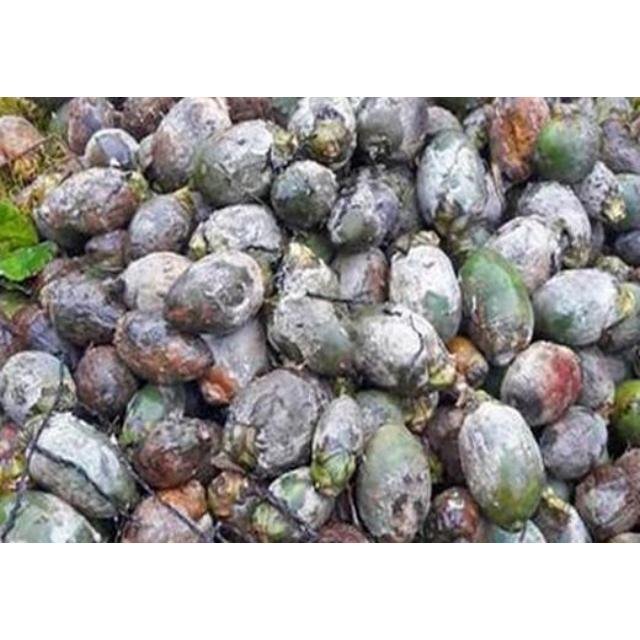damaged: (23, 412, 140, 524), (222, 367, 332, 478), (457, 399, 548, 531), (354, 421, 434, 539), (34, 167, 146, 251), (163, 249, 269, 337), (265, 290, 361, 380), (348, 307, 442, 395), (144, 97, 232, 191), (113, 308, 214, 387), (386, 243, 464, 345), (192, 121, 284, 207), (510, 181, 594, 271), (43, 266, 129, 348), (502, 340, 582, 428), (193, 316, 271, 406), (130, 414, 220, 490), (481, 216, 565, 294), (194, 202, 286, 270), (258, 466, 339, 540), (1, 349, 75, 429), (487, 98, 551, 182), (536, 408, 610, 480), (530, 109, 600, 185), (72, 343, 140, 421), (574, 460, 640, 540), (268, 160, 340, 232), (285, 98, 357, 170), (127, 189, 201, 259), (270, 240, 346, 308), (354, 97, 430, 165), (119, 382, 190, 454), (424, 400, 481, 486), (117, 252, 193, 316), (576, 161, 634, 233), (368, 165, 420, 243), (20, 308, 80, 372), (420, 487, 486, 543), (332, 246, 391, 308), (568, 348, 622, 414), (352, 390, 414, 446), (0, 114, 50, 180), (530, 489, 590, 543), (596, 287, 640, 357), (64, 98, 118, 154), (15, 168, 71, 220), (598, 116, 640, 180), (118, 98, 180, 140), (216, 420, 262, 476), (444, 336, 490, 390), (206, 468, 250, 522), (1, 421, 32, 495), (608, 378, 640, 449), (286, 228, 336, 272), (1, 304, 34, 370), (471, 171, 505, 233), (250, 501, 298, 542), (37, 255, 83, 295), (460, 104, 494, 156), (422, 104, 462, 146), (0, 286, 38, 326), (218, 98, 276, 124), (38, 274, 72, 318), (350, 164, 396, 196), (313, 520, 375, 542), (614, 447, 640, 497), (308, 98, 360, 122), (591, 254, 633, 282), (482, 363, 512, 401), (268, 98, 306, 128), (612, 228, 640, 268), (590, 97, 630, 125), (430, 97, 484, 117), (504, 182, 530, 222), (1, 490, 23, 534), (22, 98, 82, 114), (200, 99, 232, 128), (136, 134, 158, 174), (568, 98, 604, 122), (124, 170, 150, 202), (48, 108, 70, 144), (56, 153, 86, 179), (8, 98, 40, 122), (192, 512, 215, 538)
